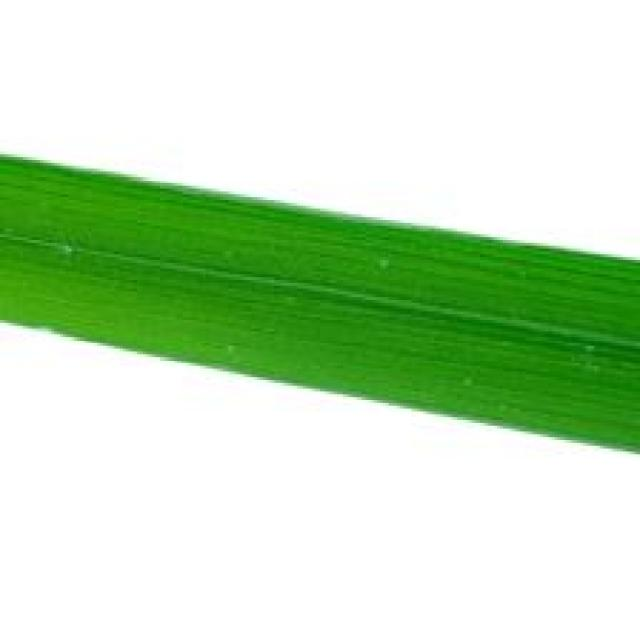Rice___Healthy_Rice_Plant: (0, 153, 637, 455)
